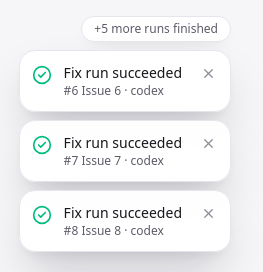
RunToasts › each toast can be dismissed, which reveals the next one
Check: the link "+5 more runs finished" is shown, box left=81, top=16, right=231, bottom=42
Click the button named "Dismiss run #8 notification" at [208, 213], box left=192, top=197, right=224, bottom=229
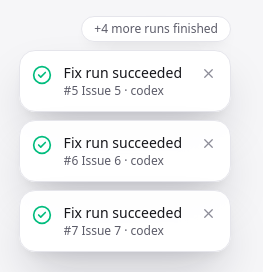
Check: the link "+4 more runs finished" is shown, box left=81, top=16, right=231, bottom=42
